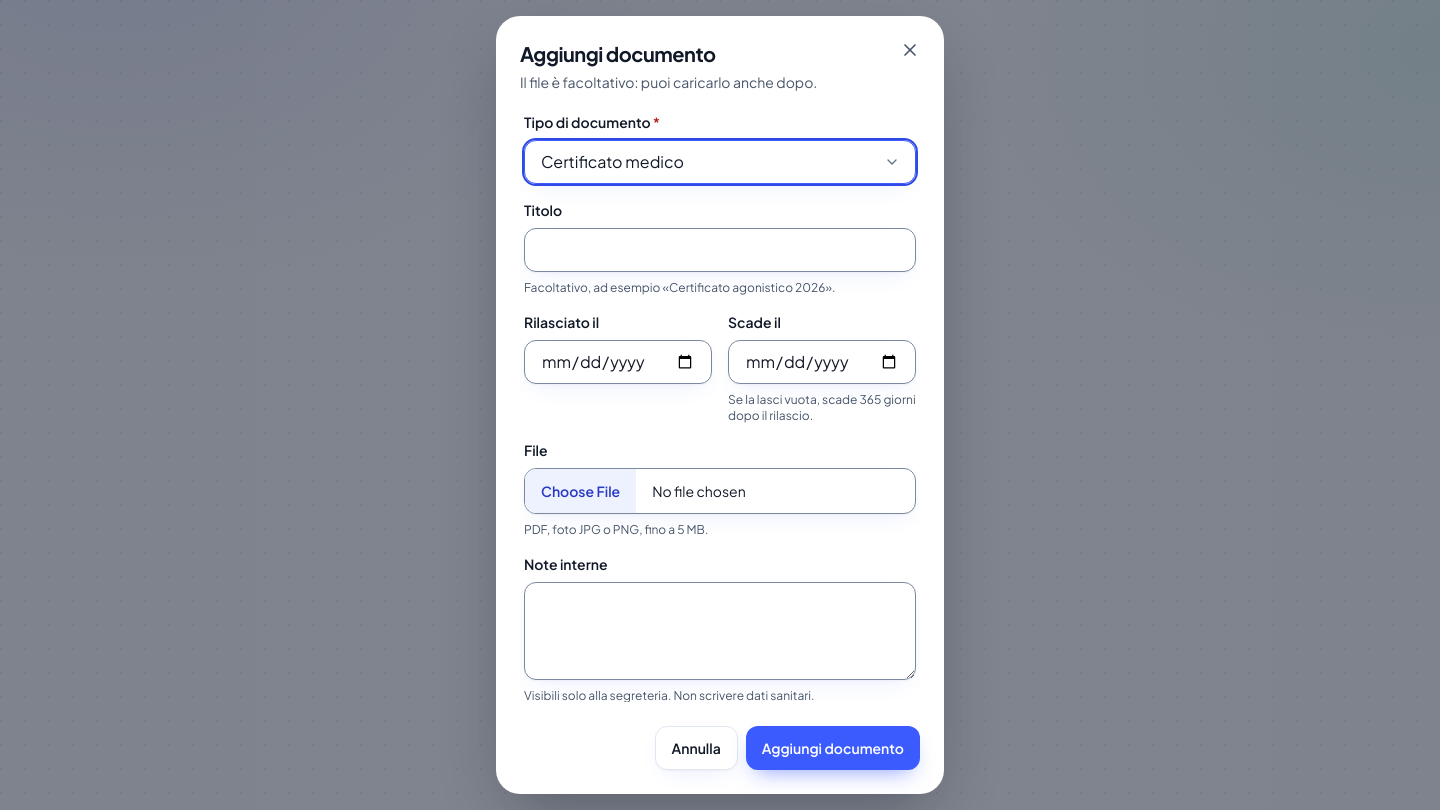
Scenario: DocumentFormDialog › shows server validation on the expiry field
The width and height of the screenshot is (1440, 810).
Type "2027-11-27" into the date field labelled "Scade il".
click(822, 362); type("2027-11-27")  # box x1=728 y1=340 x2=916 y2=384
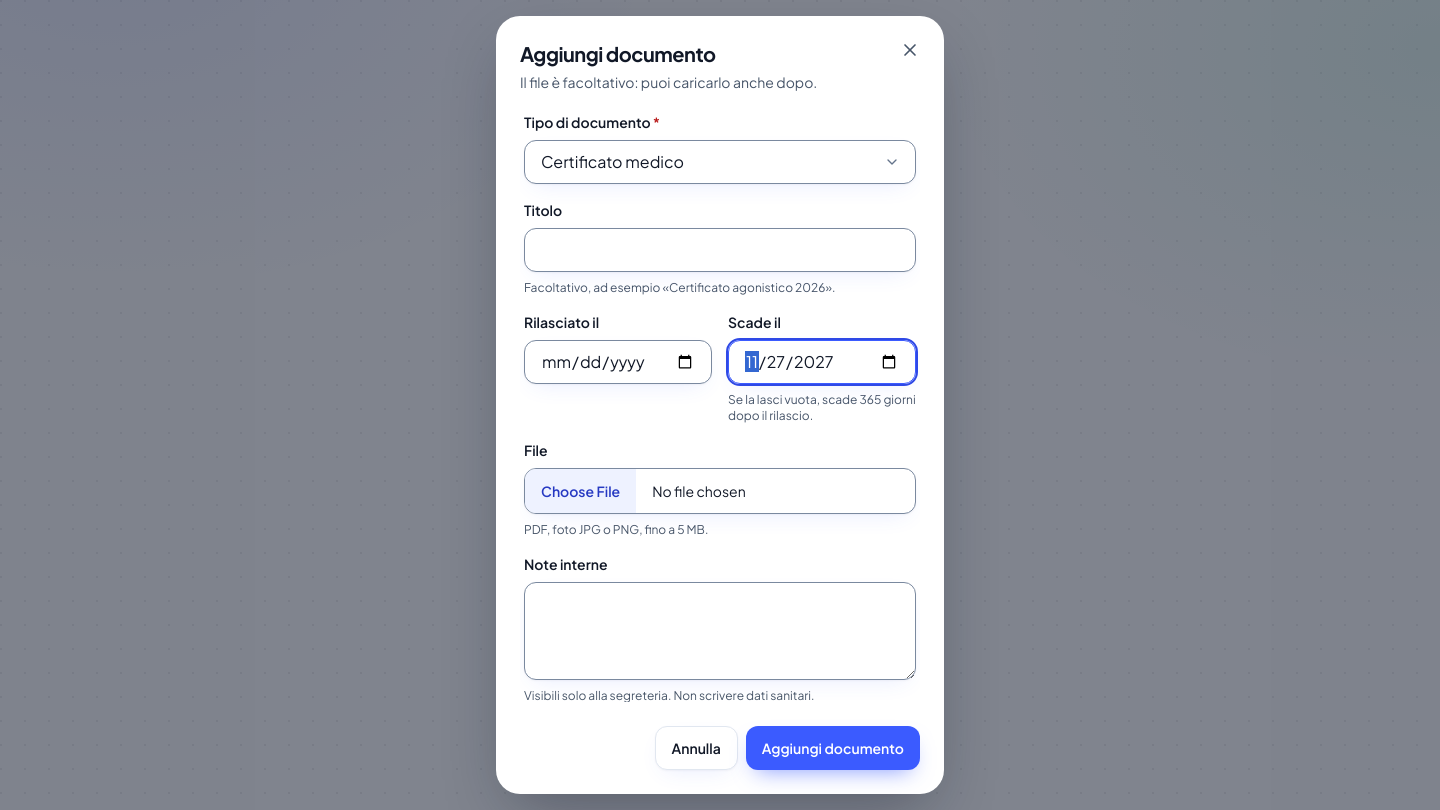
Click the button "Aggiungi documento".
click(833, 748)  # box x1=746 y1=726 x2=920 y2=770
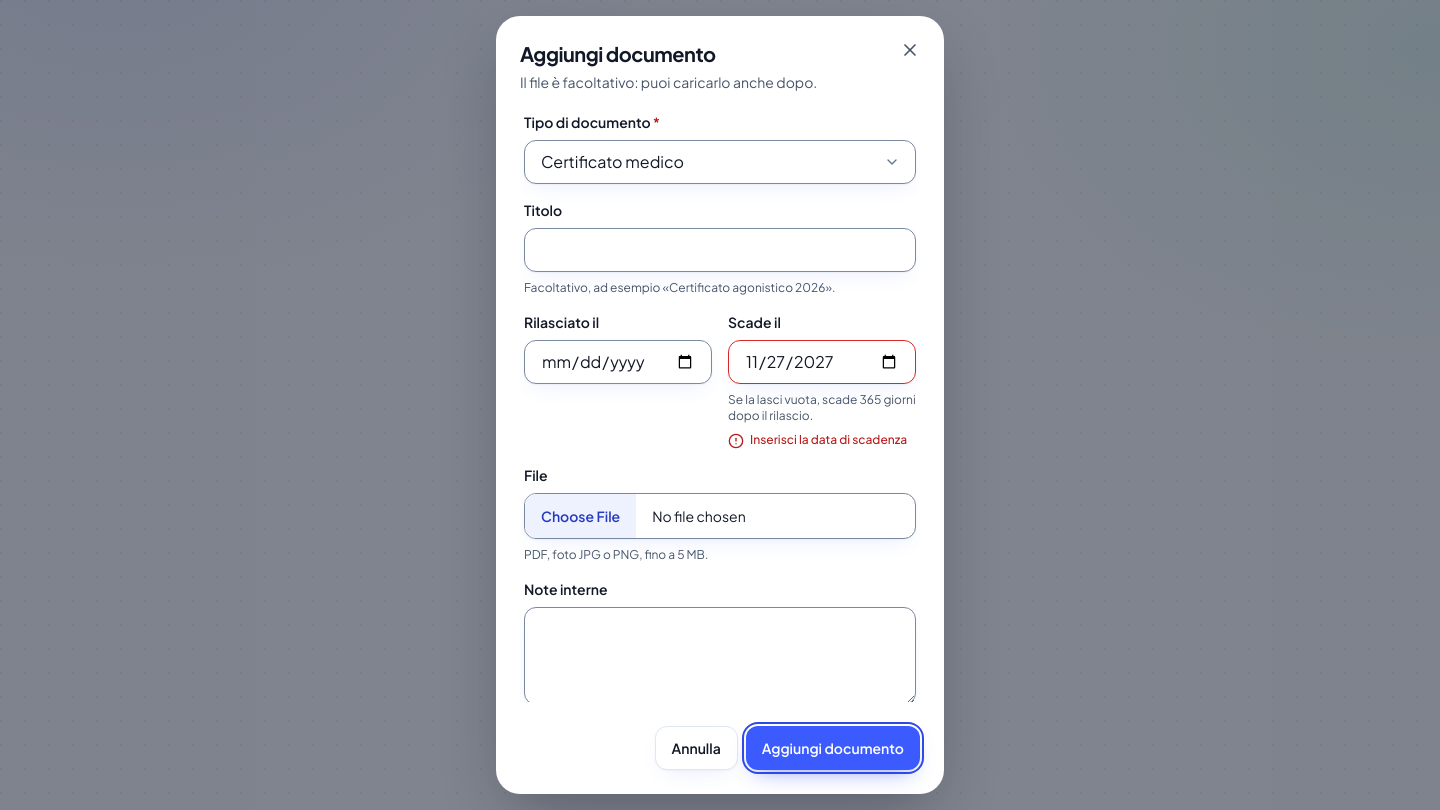
Expected: the text "Inserisci la data di scadenza" is shown, x1=750 y1=432 x2=907 y2=448
